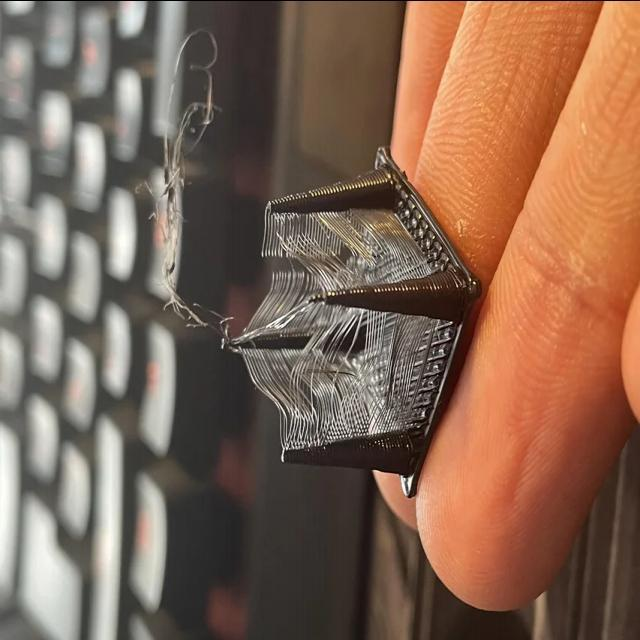Stringing: (264, 223, 346, 258), (159, 197, 182, 280), (248, 354, 290, 393), (271, 282, 298, 325)
